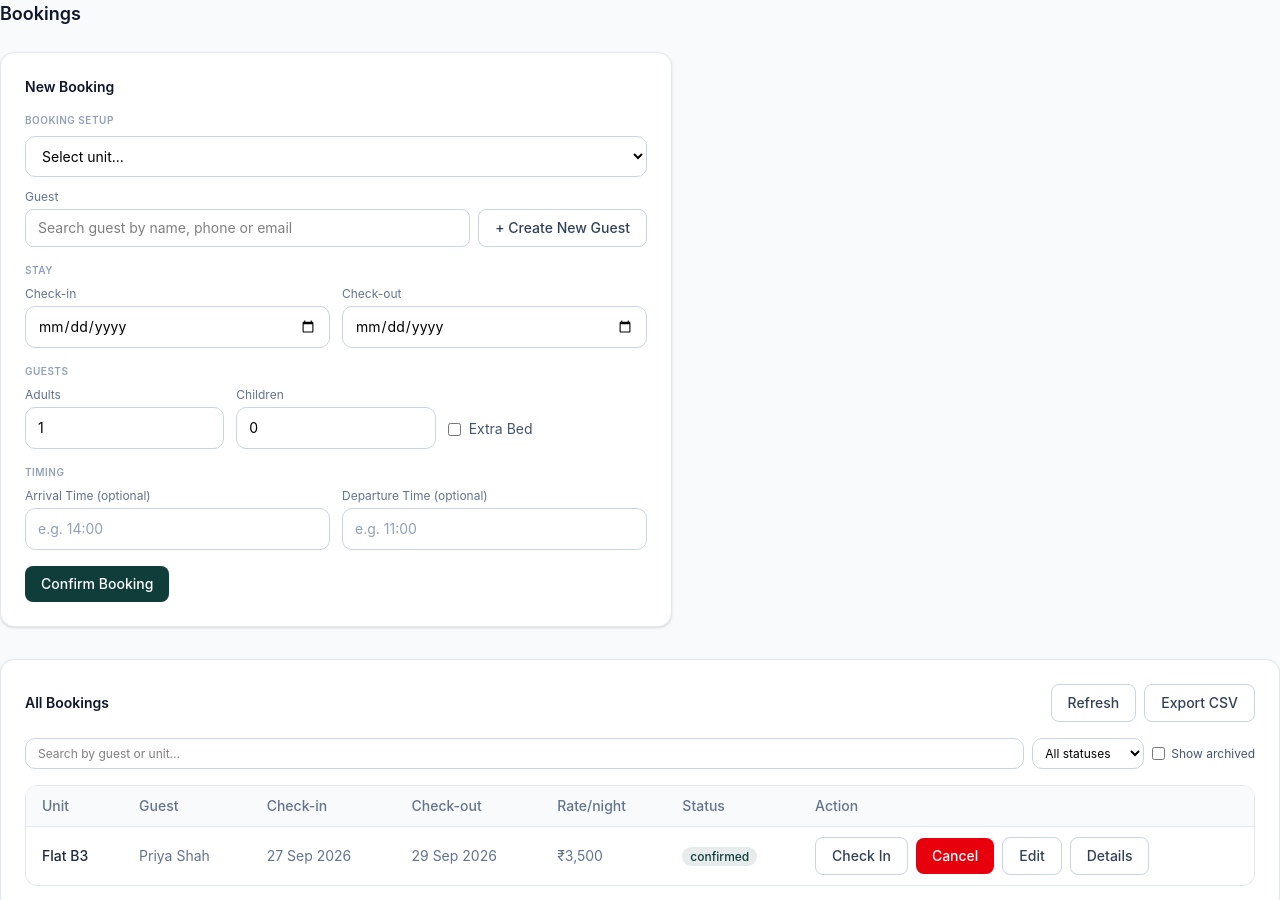
Scenario: BookingsPage — UI polish › opening Reservation Details shows all six labeled sections
Expected: the text "Priya Shah" is shown, [123, 826, 251, 885]
Click the button "Edit": point(1032, 856) [1002, 837, 1062, 875]
(page scrolled)
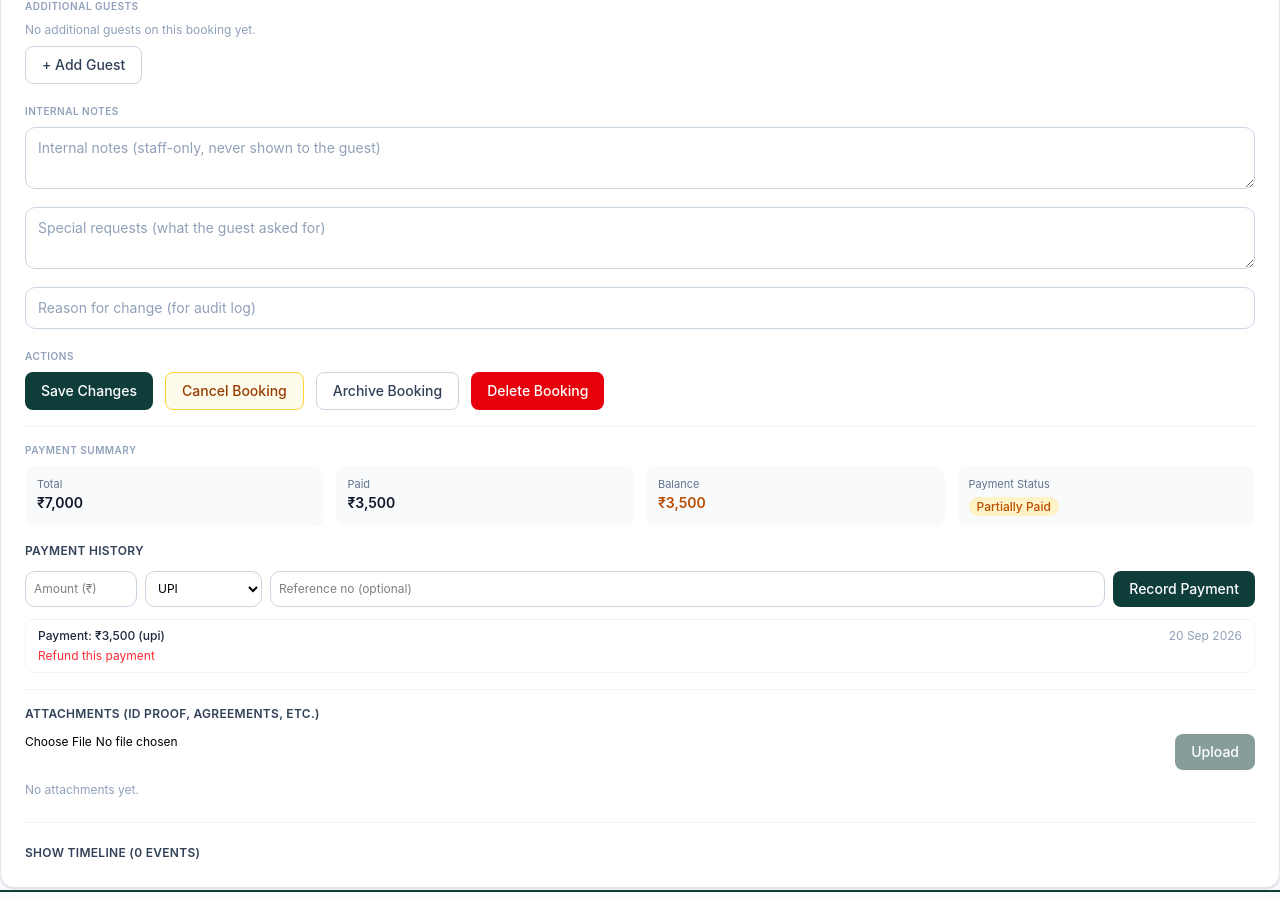
Expected: the heading "Internal Notes" is shown, [25, 105, 119, 117]
Expected: the heading "Actions" is shown, [25, 350, 74, 362]
Expected: the heading "Payment Summary" is shown, [25, 444, 137, 456]
